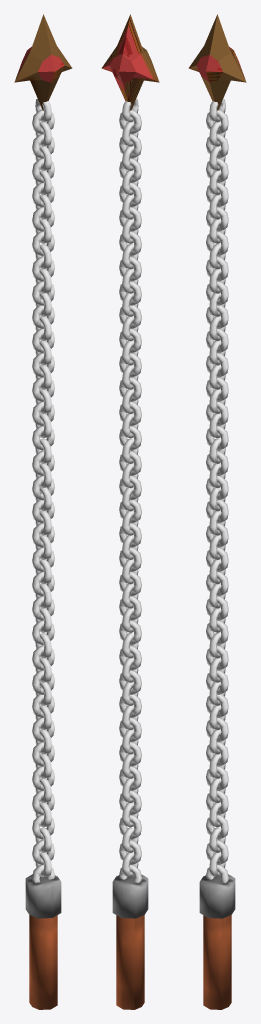
The model's file is WhipFlail.fbx.
3 renders of one model, left to right at view 1: azimuth 30°, elevation 25°; view 2: azimuth 150°, elevation 25°; view 3: azimuth 330°, elevation 25°, orthographic.
Parts seen in each view (by area): view 1: Chains.003, Chains.002, Chains.001, Chains, FlailHandle, Cube, FlailHilt; view 2: Chains.003, Chains.002, Chains.001, Chains, FlailHandle, Cube, FlailHilt; view 3: Chains.003, Chains.002, Chains.001, Chains, FlailHandle, Cube, FlailHilt.
Boxes of the visible parts, bbox=[...] form: Chains.003: bbox=[32, 99, 54, 305]; Chains.002: bbox=[32, 293, 54, 500]; Chains.001: bbox=[32, 487, 54, 694]; Chains: bbox=[32, 682, 54, 883]; FlailHandle: bbox=[29, 915, 57, 1009]; Cube: bbox=[14, 14, 72, 110]; FlailHilt: bbox=[25, 874, 61, 918]; Chains.003: bbox=[119, 99, 141, 305]; Chains.002: bbox=[119, 293, 141, 500]; Chains.001: bbox=[119, 487, 141, 694]; Chains: bbox=[119, 682, 141, 882]; FlailHandle: bbox=[116, 915, 144, 1009]; Cube: bbox=[101, 14, 159, 110]; FlailHilt: bbox=[112, 874, 148, 918]; Chains.003: bbox=[206, 99, 228, 305]; Chains.002: bbox=[206, 293, 228, 500]; Chains.001: bbox=[206, 487, 228, 694]; Chains: bbox=[206, 682, 228, 883]; FlailHandle: bbox=[203, 915, 231, 1009]; Cube: bbox=[188, 14, 246, 110]; FlailHilt: bbox=[199, 874, 235, 918].
Bounding box in the file's own units: 50.09 × 815 × 34.7.
7 materials, 3 textured.
